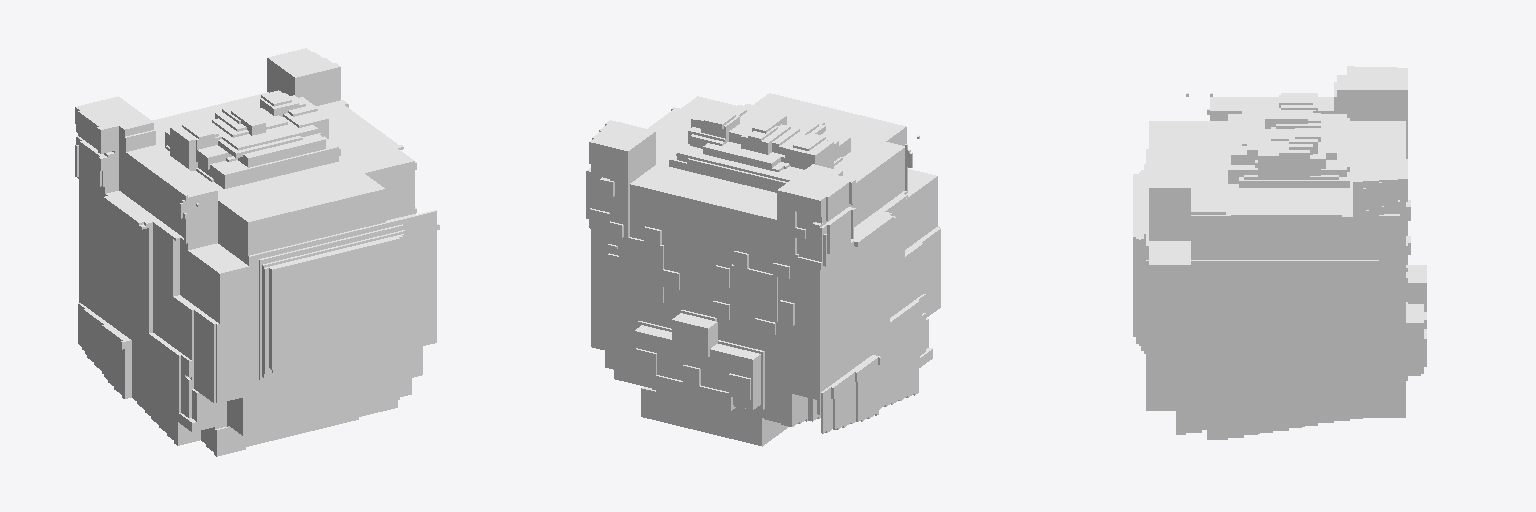
Rendered from ToyBear-1.obj.
3 views of the same model, side by side, from view 1: azimuth 30°, elevation 25°; view 2: azimuth 150°, elevation 25°; view 3: azimuth 270°, elevation 25° (orthographic).
Visible parts, largest first — view 1: object 1; view 2: object 1; view 3: object 1.
Boxes of the visible parts, box(x1,y1,x2,y2) form: object 1: box(75, 48, 439, 456); object 1: box(586, 93, 940, 446); object 1: box(1133, 66, 1426, 439).
Bounding box in the file's own units: 10.8 × 11.7 × 11.1.